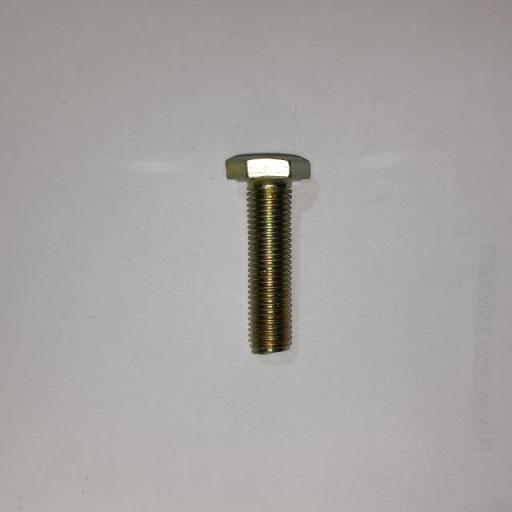Bolt: (225, 153, 311, 355)
